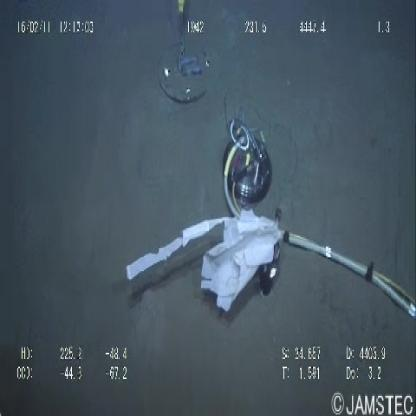Rov: (218, 94, 274, 214), (156, 1, 210, 111)
Rác: (122, 211, 289, 316)
